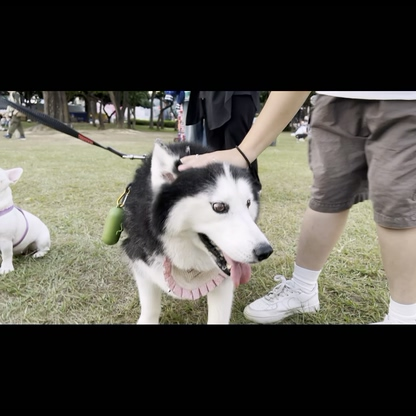husky: (111, 137, 273, 322)
